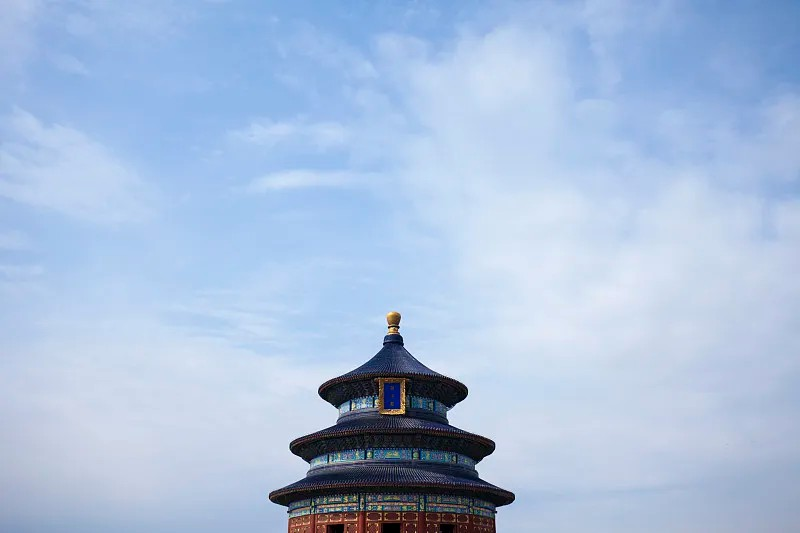Heaven: (268, 311, 515, 533)
